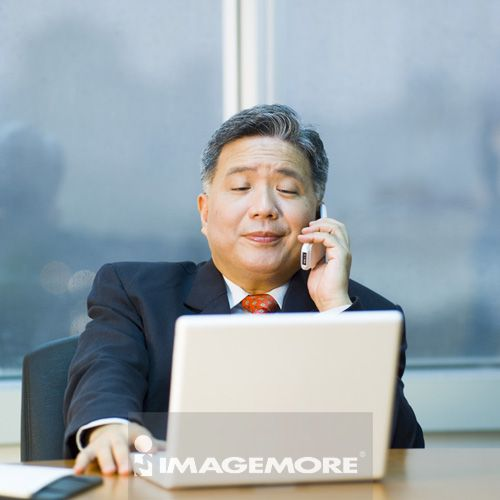talk: (209, 158, 355, 312)
